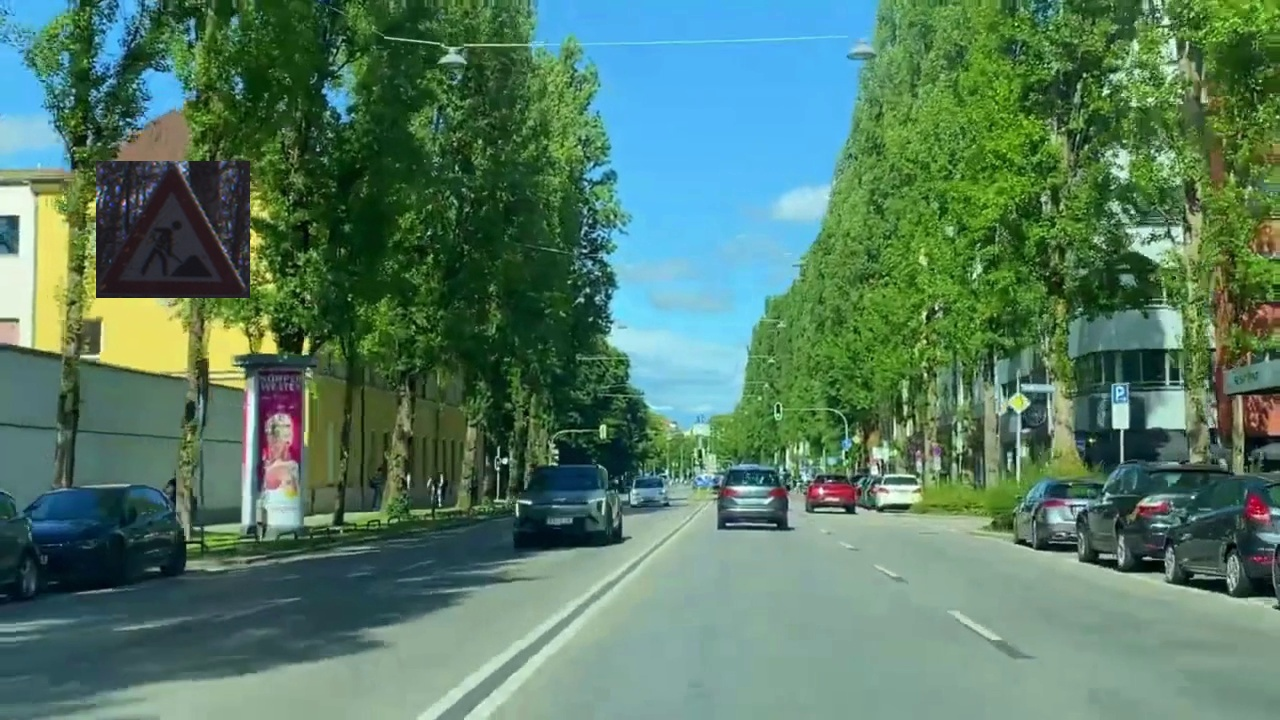Road work: (96, 161, 250, 298)
